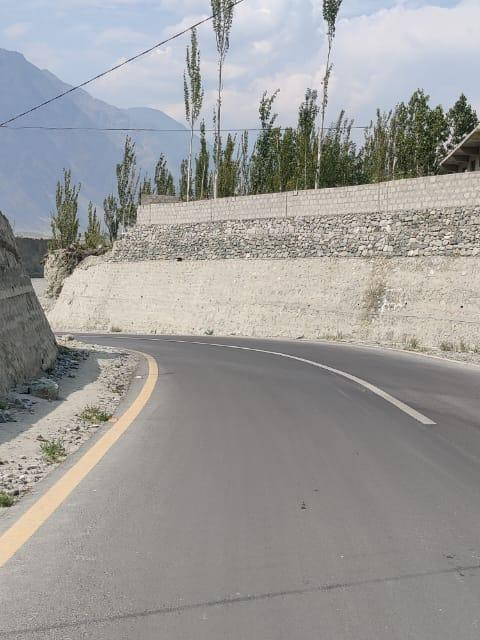left_turn: (0, 243, 430, 426)
